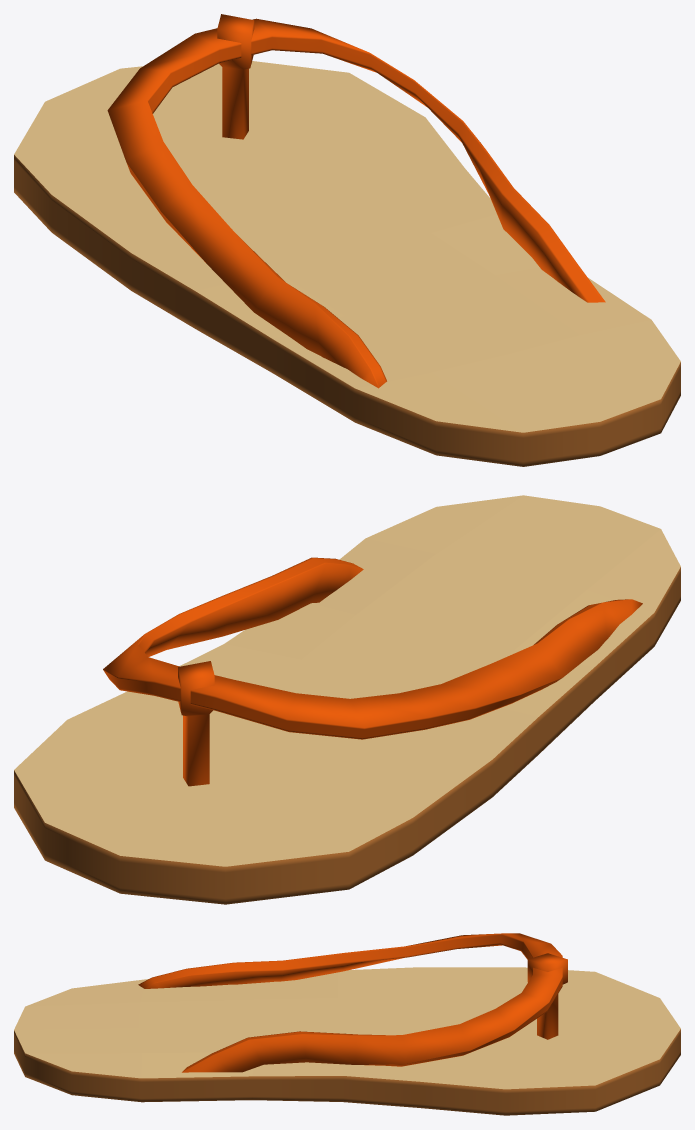
The model's file is shoe_1.fbx.
3 renders of one model, top to bottom at view 1: azimuth 30°, elevation 25°; view 2: azimuth 150°, elevation 25°; view 3: azimuth 270°, elevation 25°, orthographic. The views are drawn at different scales.
Parts seen in each view (by area): view 1: Cube; view 2: Cube; view 3: Cube.
Boxes of the visible parts, box(x1,y1,x2,y2) form: Cube: box(14, 14, 680, 466); Cube: box(14, 495, 680, 904); Cube: box(14, 933, 680, 1115).
Size of the model in its own units: 199 by 77.82 by 460.
